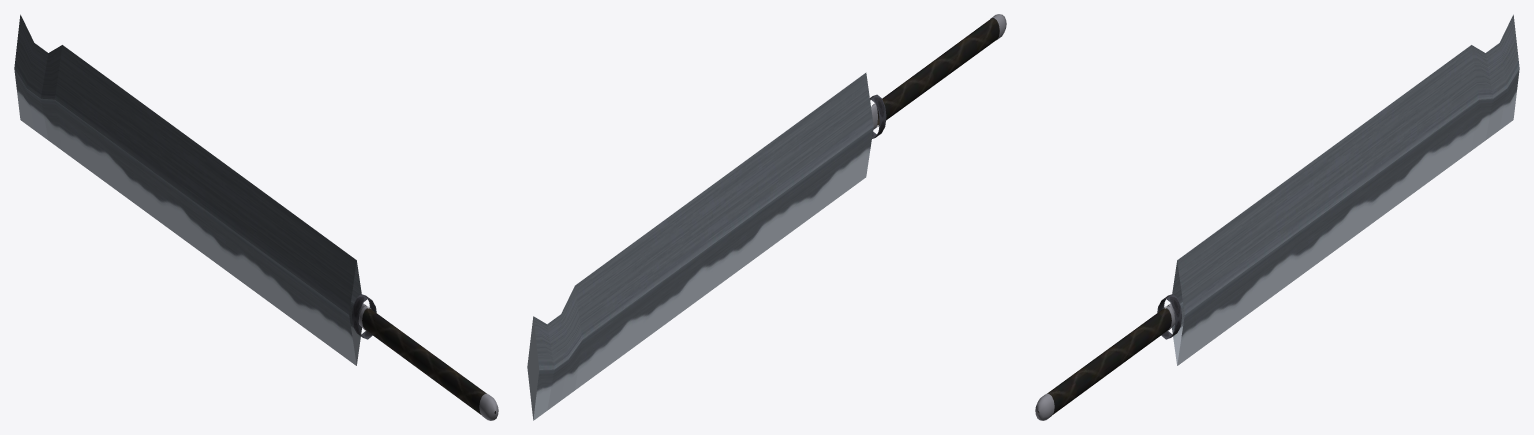
Rendered from zanbato.glb.
3 renders of one model, left to right at view 1: azimuth 30°, elevation 25°; view 2: azimuth 150°, elevation 25°; view 3: azimuth 330°, elevation 25°, orthographic.
Parts seen in each view (by area): view 1: main; view 2: main; view 3: main.
Boxes of the visible parts, bbox=[...] form: main: bbox=[14, 14, 498, 420]; main: bbox=[527, 14, 1006, 420]; main: bbox=[1035, 14, 1519, 420].
Size of the model in its own units: 0.0369 by 0.2 by 1.62.
Materials: 4 (3 with a texture image).
